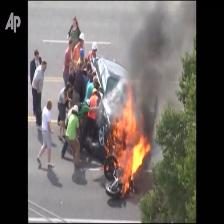fire: (106, 81, 150, 193)
